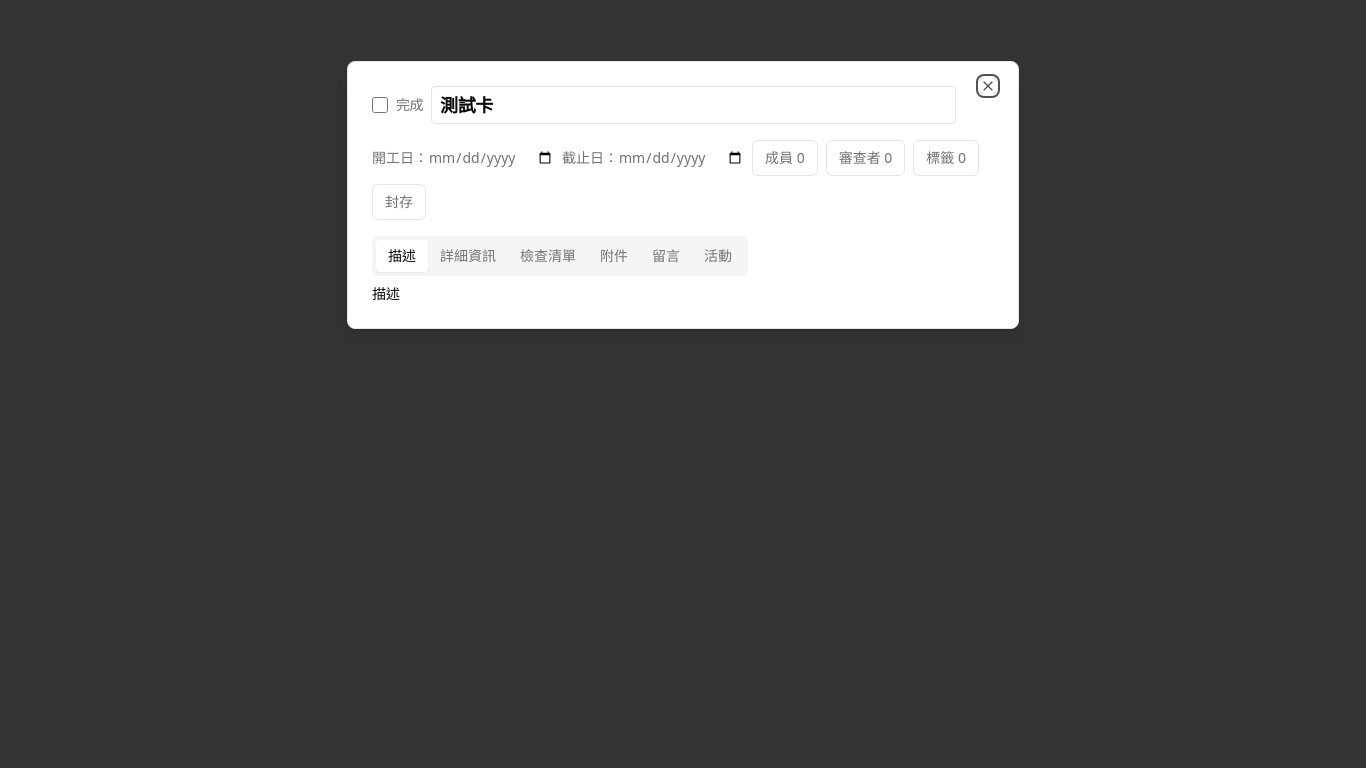
it: 誤導空態（#16） › 成員查詢失敗顯示載入失敗與重試而非尚無專案成員
The image size is (1366, 768).
Press the mouse on the button "成員 0" at (785, 158), box x1=752 y1=140 x2=818 y2=176
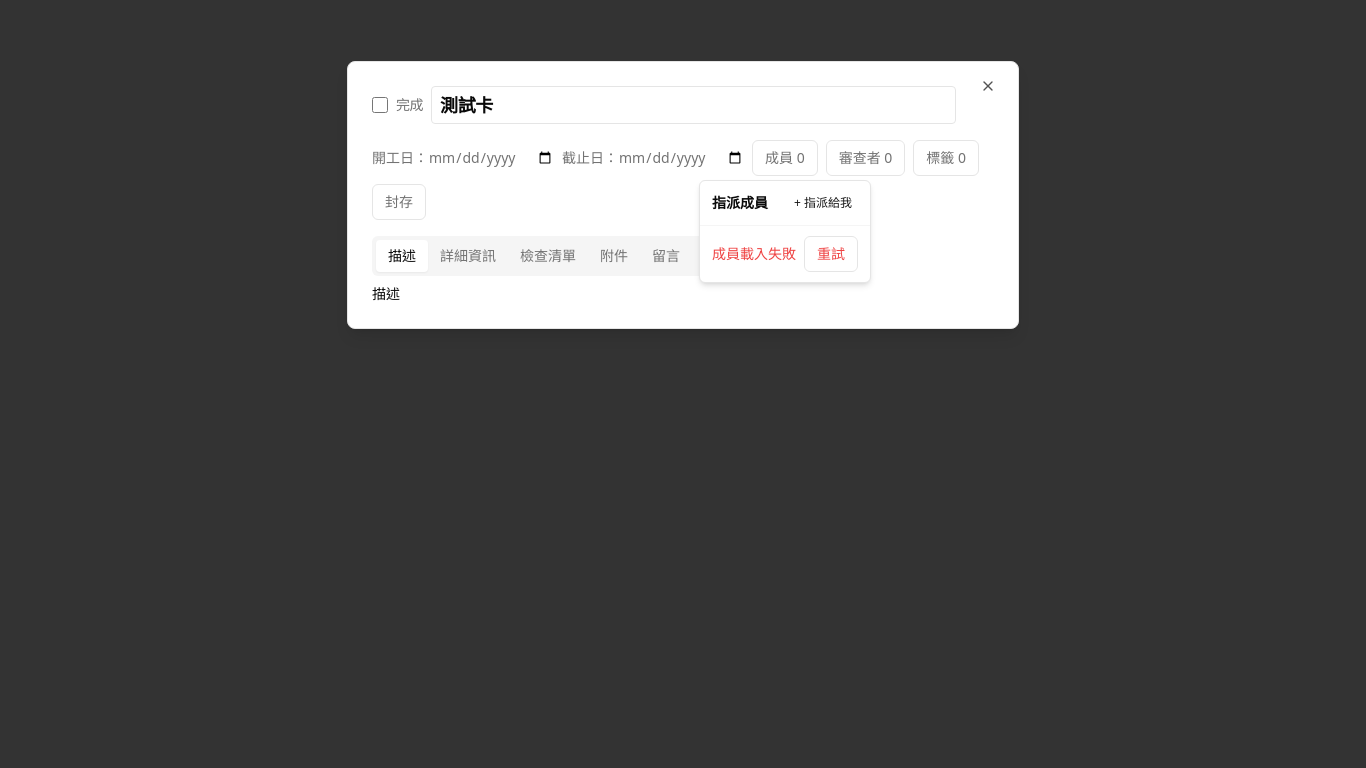
Expected: the text "成員載入失敗" is shown, x1=712 y1=244 x2=796 y2=263
Expected: the button "重試" is shown, x1=804 y1=236 x2=858 y2=272
